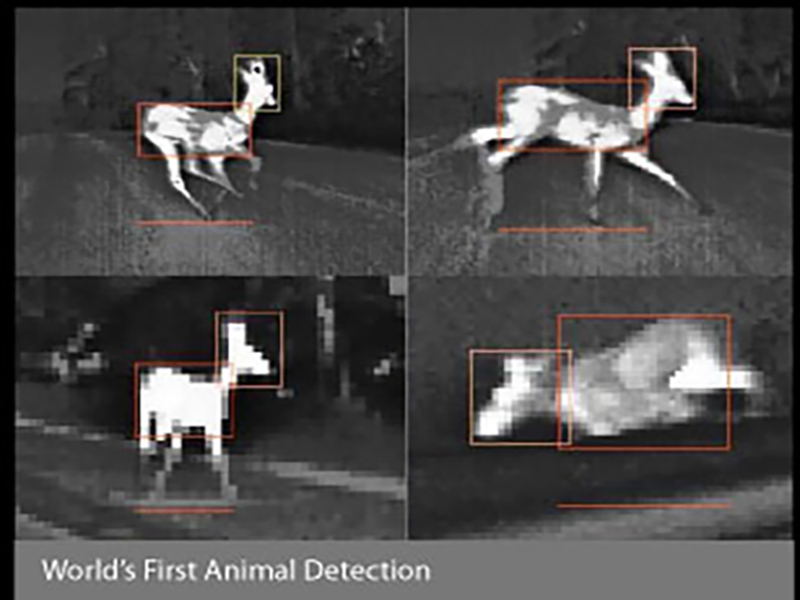cervo: (467, 50, 716, 221), (472, 322, 751, 444), (135, 58, 282, 220), (144, 328, 270, 494)
